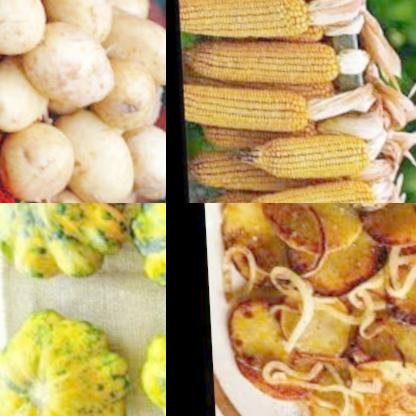corn: (189, 23, 342, 90), (181, 77, 314, 139), (228, 131, 374, 185), (225, 162, 377, 203), (185, 148, 298, 199), (177, 0, 315, 40), (197, 116, 261, 151), (192, 184, 260, 203)
onion: (254, 357, 359, 416), (271, 265, 309, 344), (343, 268, 387, 333), (219, 242, 256, 306), (387, 231, 416, 297), (285, 407, 313, 416)
potato: (206, 203, 416, 416), (0, 0, 166, 203)
squash-patisson: (0, 298, 136, 416), (0, 203, 128, 287)
